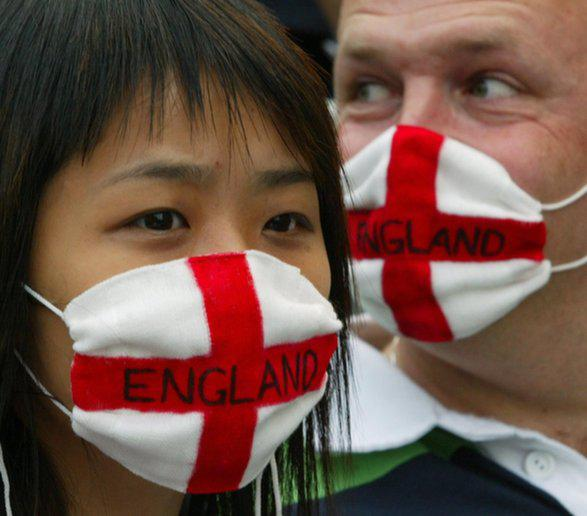OK: (21, 158, 342, 479), (333, 18, 587, 338)
